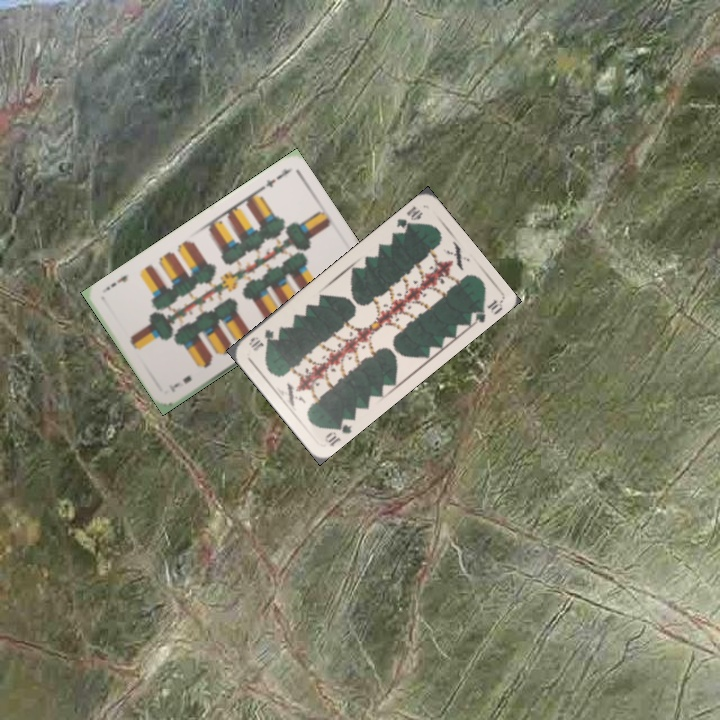E7: (256, 165, 292, 193), (165, 371, 194, 394)
G10: (321, 414, 355, 449), (392, 202, 425, 233)
